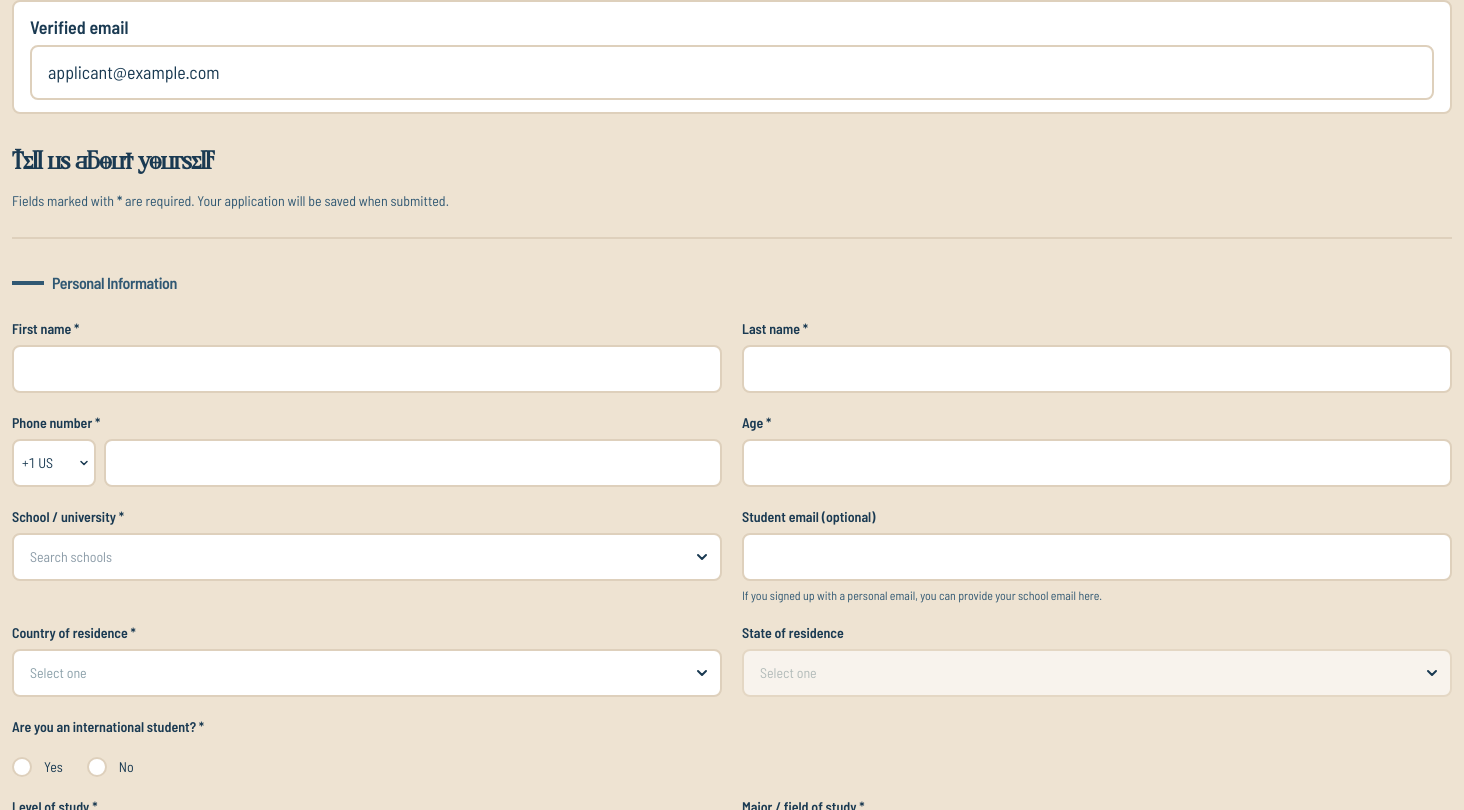
Test: ApplicationForm › shows a student email validation error for malformed addresses
Type "not-an-email" into the field with id "studentEmail" at (1097, 557), box [742,533,1452,581]
(page scrolled)
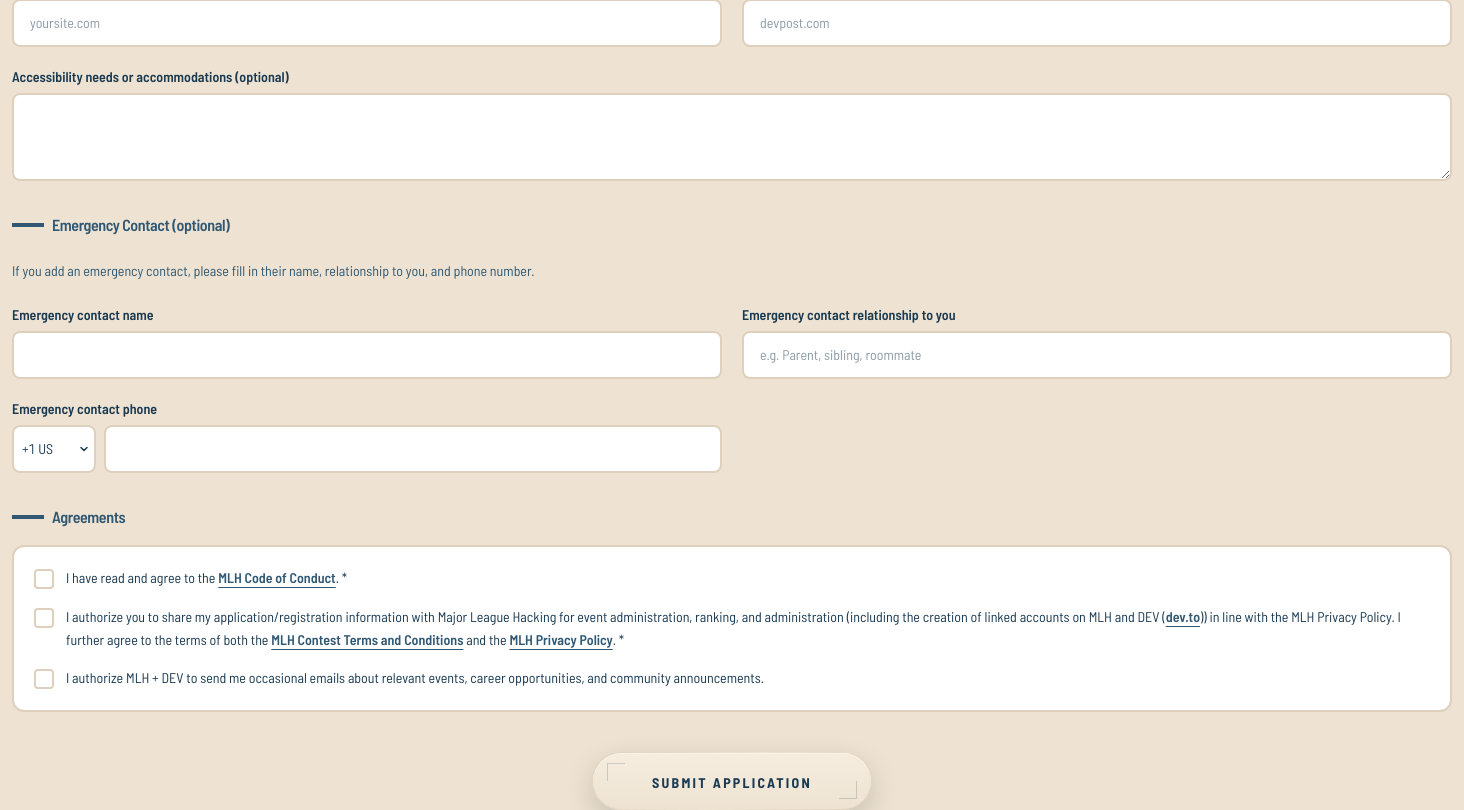
Click the button "Submit application" at (732, 781), box [592,752,872,809]
(page scrolled)
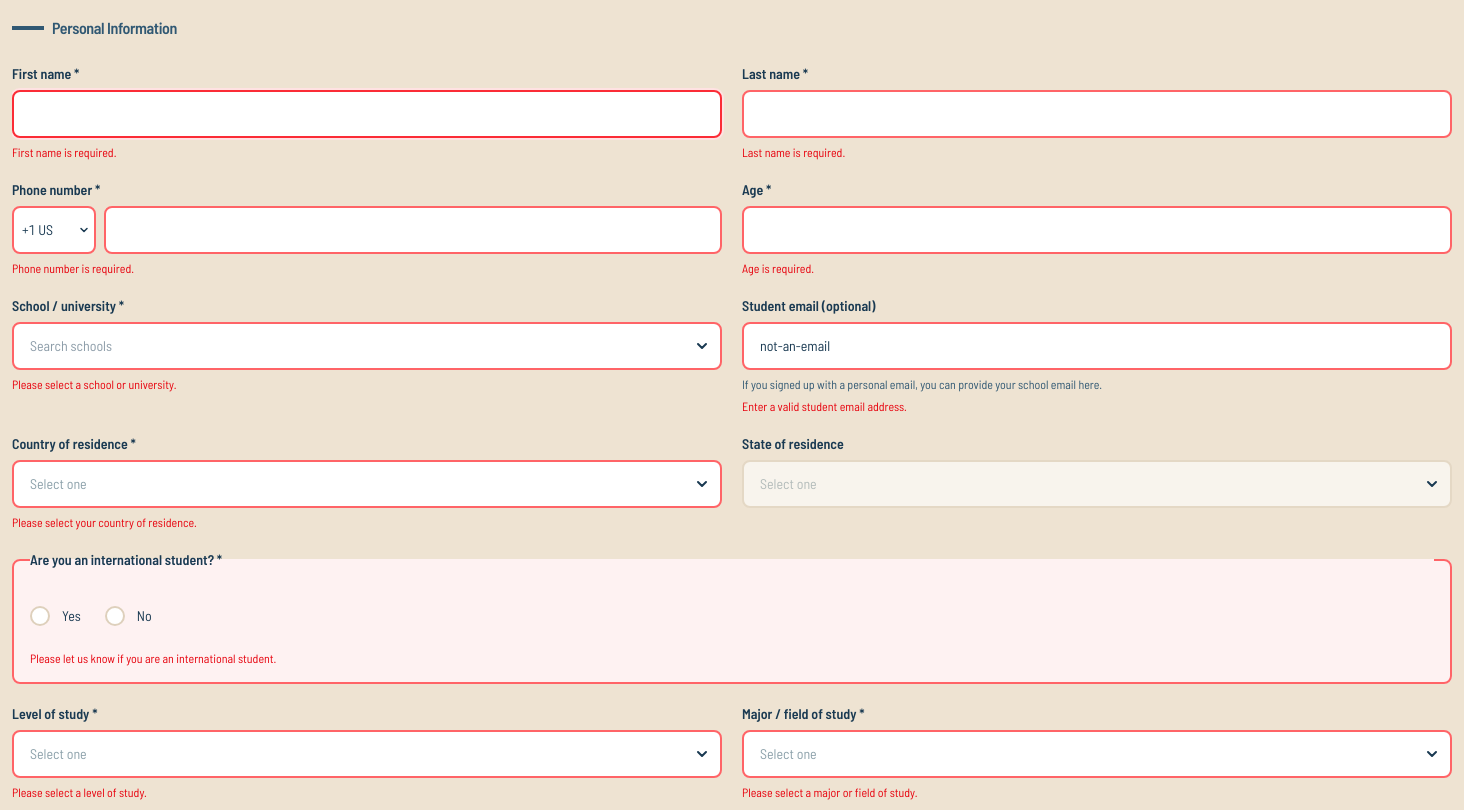
Expected: the text "Enter a valid student email address." is shown, [742,399,907,413]
